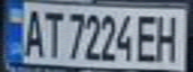2: (81, 9, 103, 61), (100, 10, 118, 62)
4: (115, 10, 136, 63)
7: (63, 8, 84, 61)
A: (18, 4, 45, 58)
E: (133, 11, 163, 63)
H: (151, 11, 184, 63)
T: (39, 7, 66, 58)
